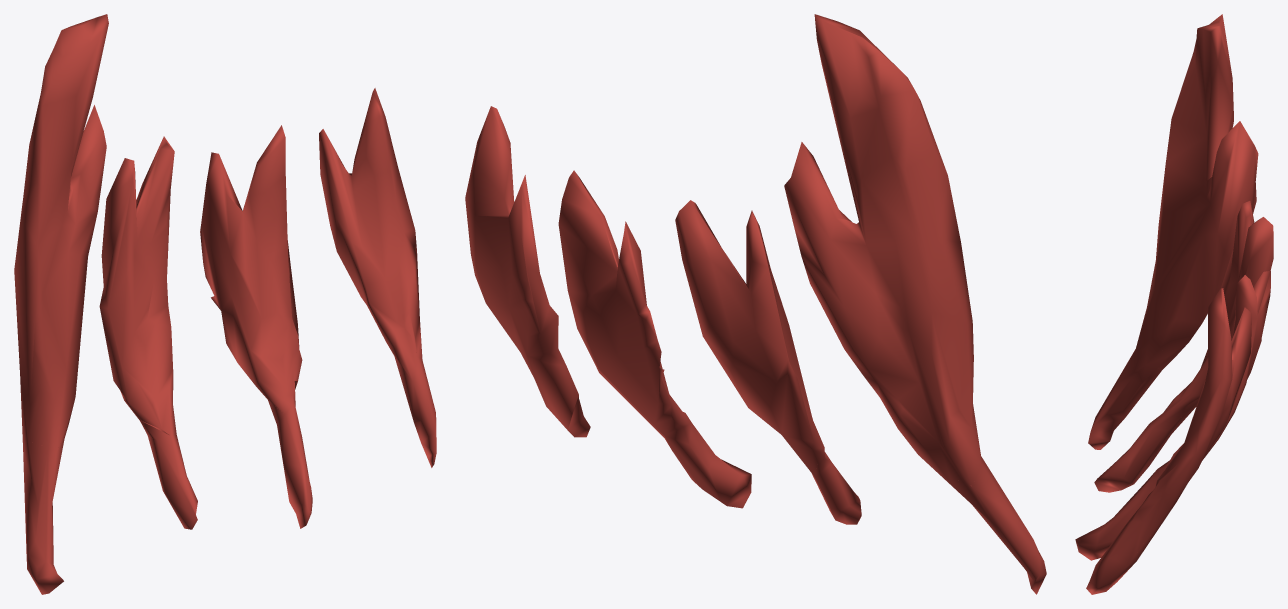
Rendered from musculos-dorsal-interossei-muscles-of-hand-r.glb.
The picture shows the model from 3 angles, left to right: view 1: azimuth 30°, elevation 25°; view 2: azimuth 150°, elevation 25°; view 3: azimuth 270°, elevation 25°; orthographic projection. The views are drawn at different scales.
Visible parts, largest first — view 1: Dorsal interossei muscles of hand.r; view 2: Dorsal interossei muscles of hand.r; view 3: Dorsal interossei muscles of hand.r.
Part boxes in pixels (x1,y1,x2,y2): Dorsal interossei muscles of hand.r: [14, 14, 436, 594]; Dorsal interossei muscles of hand.r: [465, 14, 1046, 594]; Dorsal interossei muscles of hand.r: [1075, 14, 1273, 594].
Bounding box in the file's own units: 0.064 × 0.0711 × 0.0265.
